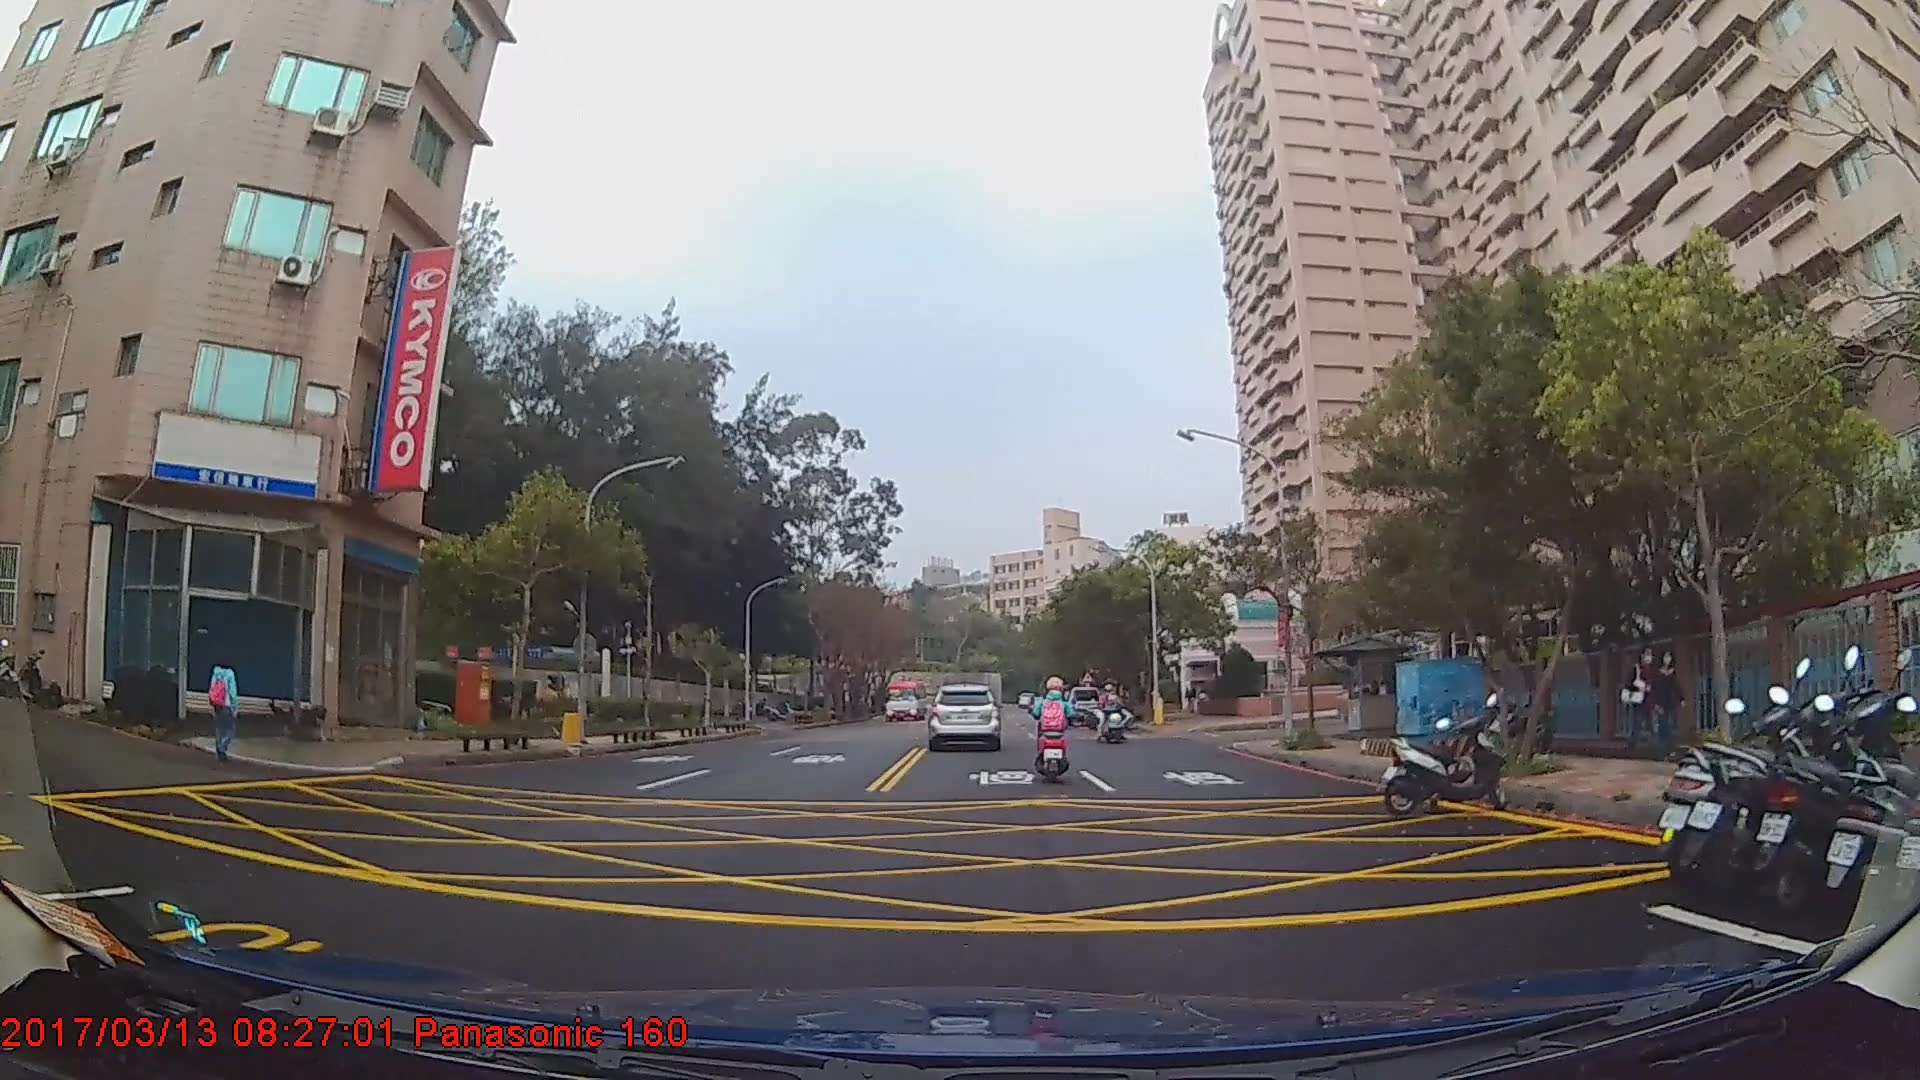pedestrian: (1621, 645, 1666, 763), (1647, 649, 1686, 766), (208, 646, 240, 766)
rider: (1030, 678, 1073, 788), (1096, 684, 1126, 739)
vehicle: (925, 681, 999, 746), (882, 677, 929, 721)
